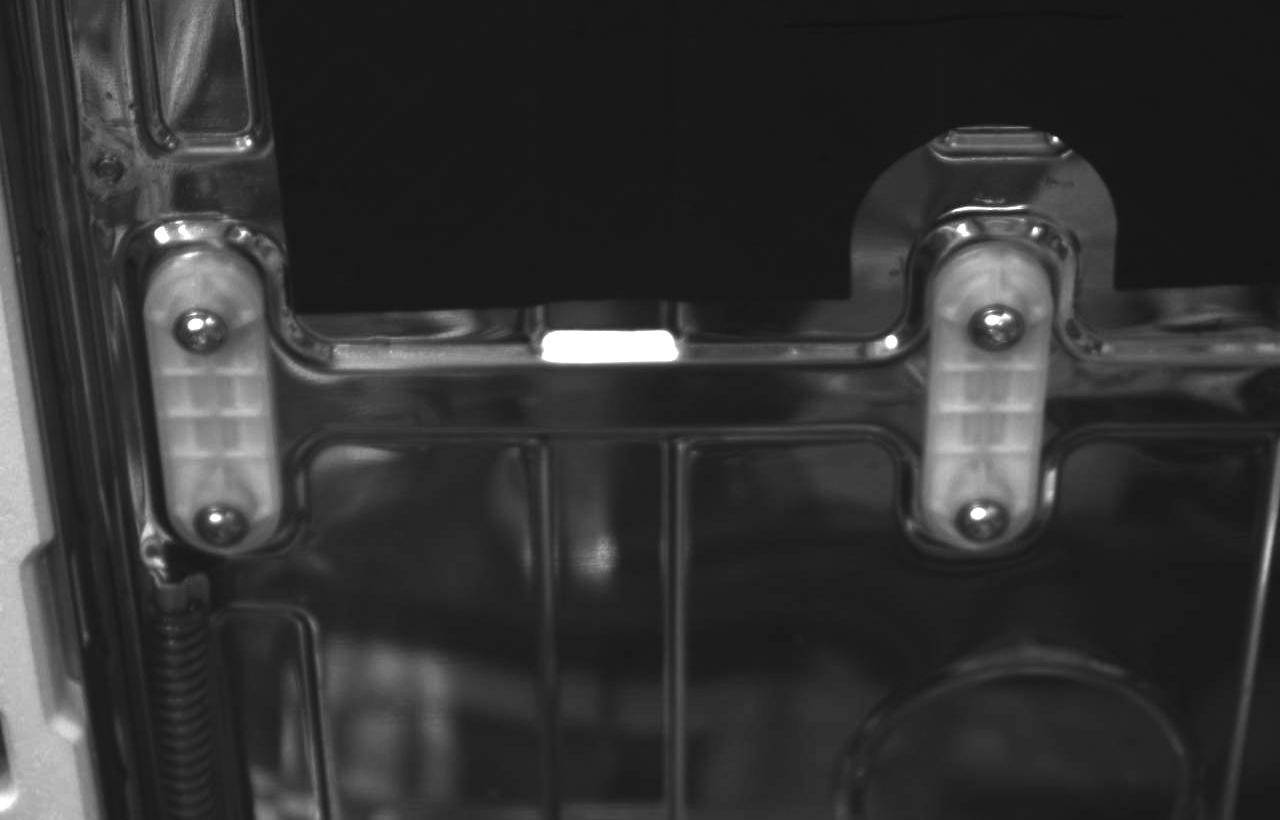vida-ok: (157, 291, 244, 368), (961, 294, 1049, 367), (183, 496, 261, 560), (938, 491, 1014, 550)
